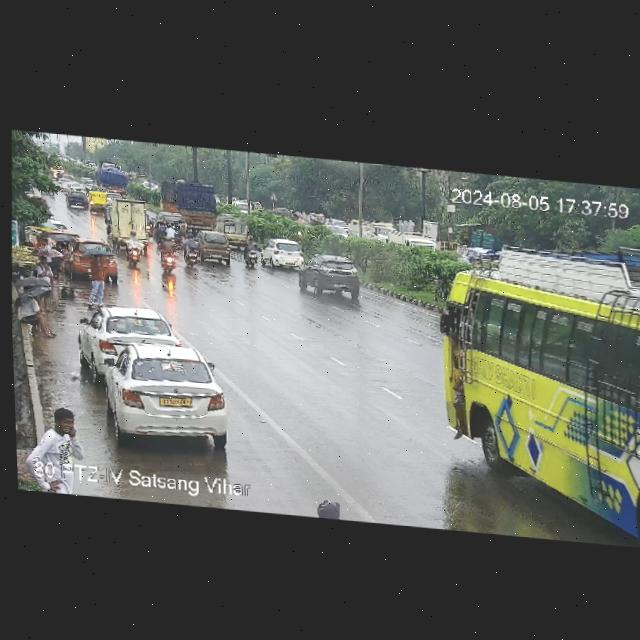bus: (426, 231, 640, 549)
car: (98, 343, 232, 449), (81, 302, 175, 370), (294, 253, 363, 299), (66, 239, 117, 279), (258, 237, 305, 270), (194, 228, 234, 262), (86, 188, 108, 215), (64, 188, 90, 208), (309, 212, 324, 226)
motorcycle: (120, 231, 145, 266), (159, 236, 178, 275), (182, 231, 201, 267), (243, 233, 257, 267), (164, 219, 177, 241)
person: (40, 398, 86, 460), (12, 288, 61, 338), (89, 250, 108, 308), (52, 236, 67, 289), (35, 254, 54, 290), (34, 233, 49, 252)
truck: (161, 180, 220, 224), (104, 197, 147, 239), (216, 215, 254, 247), (94, 162, 128, 196)
